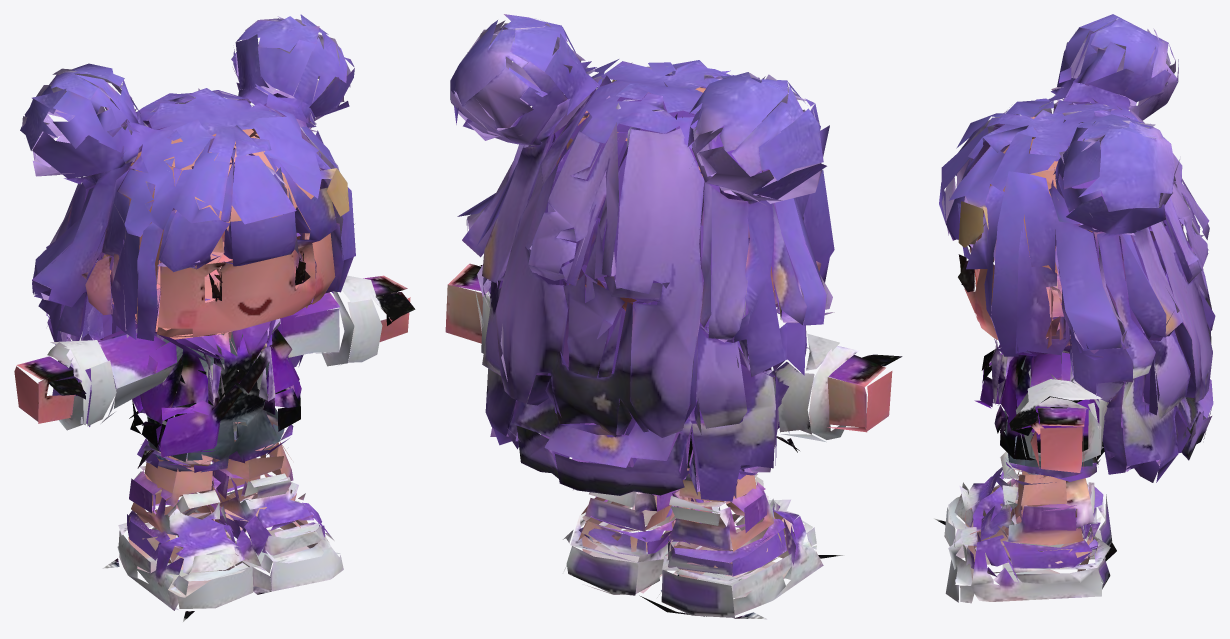
The model's file is luna_game.glb.
3 renders of one model, left to right at view 1: azimuth 30°, elevation 25°; view 2: azimuth 150°, elevation 25°; view 3: azimuth 270°, elevation 25°, orthographic. The views are drawn at different scales.
Visible parts, largest first — view 1: Body; view 2: Body; view 3: Body.
Part boxes in pixels (left/top/right/bottom): Body: left=14, top=14, right=415, bottom=622; Body: left=445, top=14, right=902, bottom=619; Body: left=933, top=14, right=1215, bottom=603.
Size of the model in its own units: 0.5759 by 0.7337 by 0.3744.
Materials: 1 (1 with a texture image).
